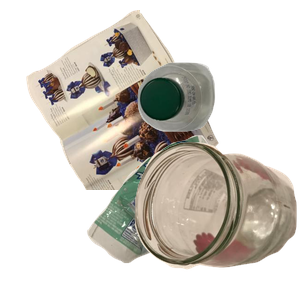glass: (132, 139, 300, 300)
paper: (24, 10, 235, 190)
plastic: (135, 60, 300, 184)
trash: (84, 133, 292, 300)
